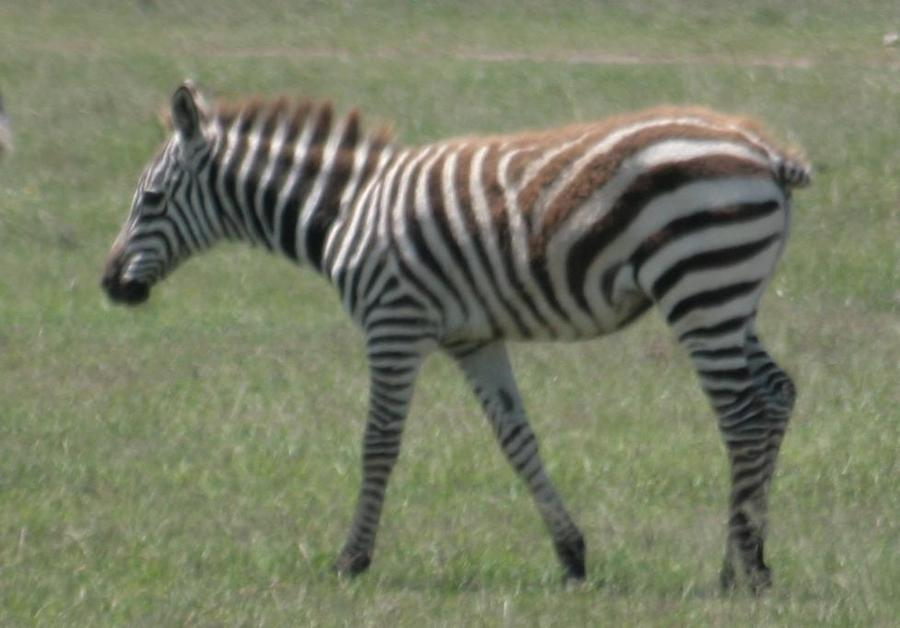zebra_plains: (274, 67, 837, 411)
